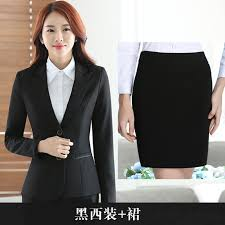F_W_suit jacket: (5, 62, 117, 199)
F_tailored skirt: (127, 47, 218, 171)
